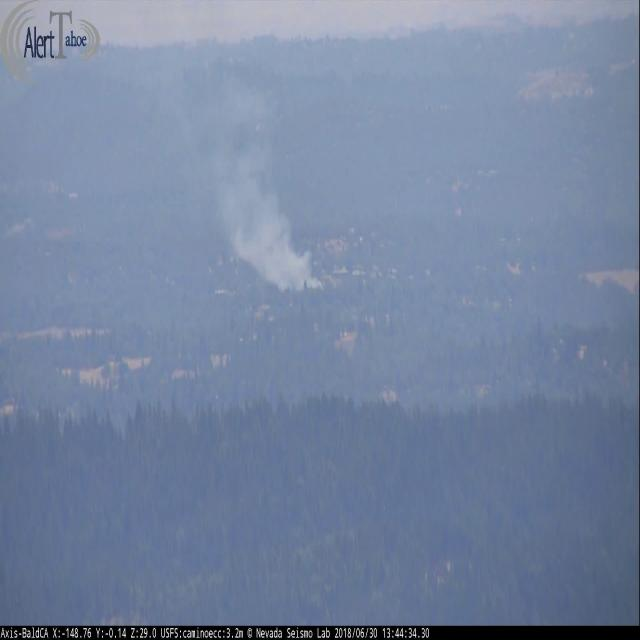smoke: (179, 80, 326, 295)
